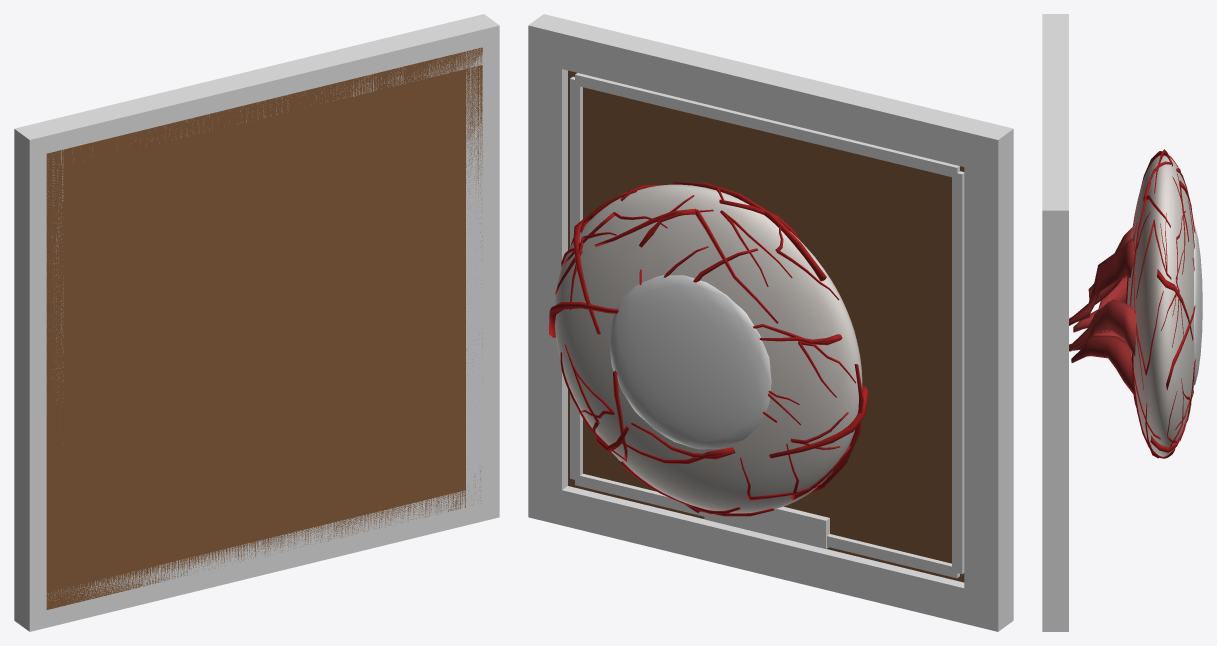
The model's file is eye_of_cthulhu_trophy_v0.glb.
3 views of the same model, side by side, from view 1: azimuth 30°, elevation 25°; view 2: azimuth 150°, elevation 25°; view 3: azimuth 270°, elevation 25° (orthographic). The views are drawn at different scales.
Visible parts, largest first — view 1: eye_of_cthulhu_trophy_v0; view 2: eye_of_cthulhu_trophy_v0; view 3: eye_of_cthulhu_trophy_v0.
Boxes of the visible parts, x1,y1,x2,y2 form: eye_of_cthulhu_trophy_v0: [14, 14, 499, 631]; eye_of_cthulhu_trophy_v0: [528, 14, 1013, 631]; eye_of_cthulhu_trophy_v0: [1042, 14, 1202, 631].
Size of the model in its own units: 1.39 by 1.39 by 0.48.
